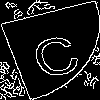C: (24, 25, 84, 80)
